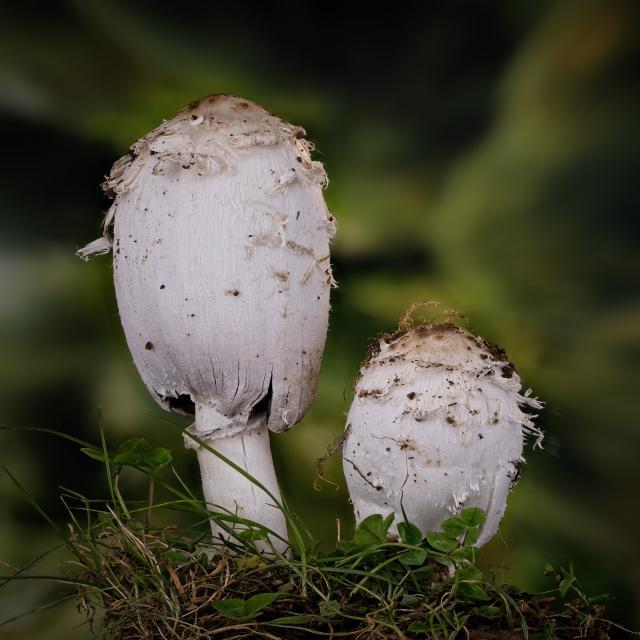Coprinus comatus: (108, 94, 330, 554), (349, 320, 527, 544)
